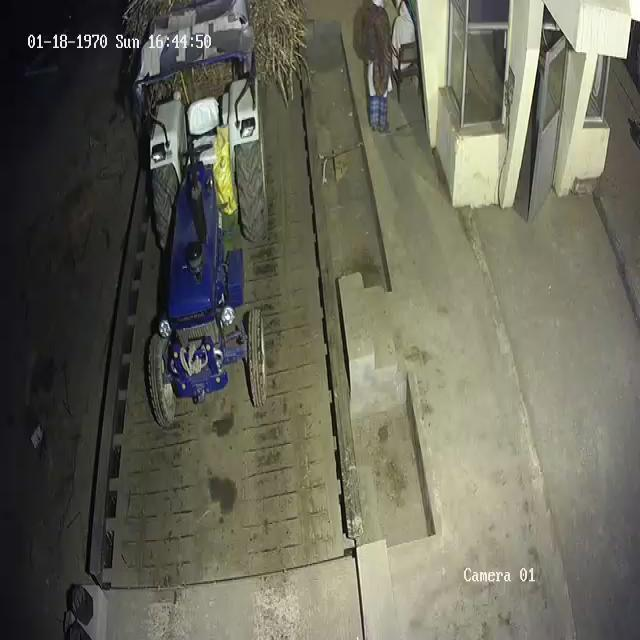Tratores - v5 YOLO V8L 2024-11-13: (138, 94, 272, 422)
